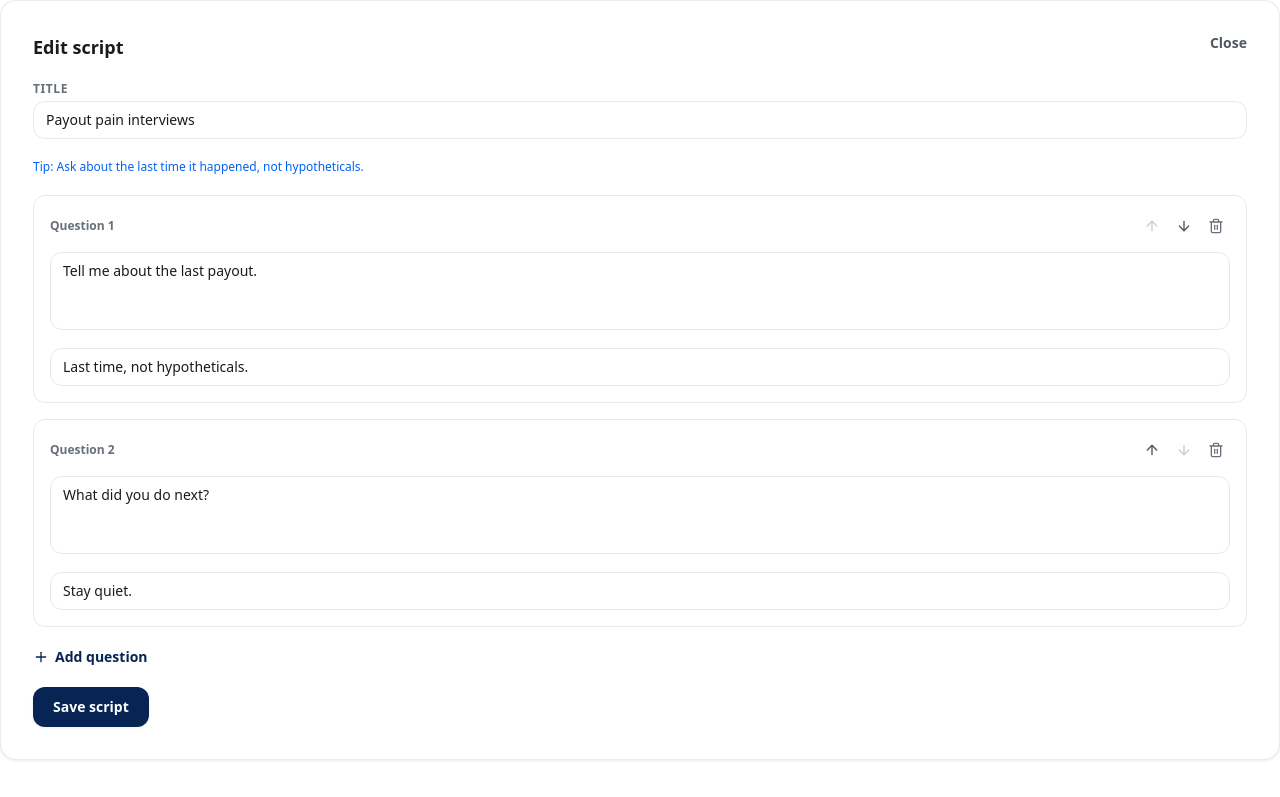
Test: ScriptEditor › reorders, adds and removes, then saves the whole list keeping ids
Click the button named "Move question 1 down". click: (1184, 226)
box: [1170,212,1198,240]
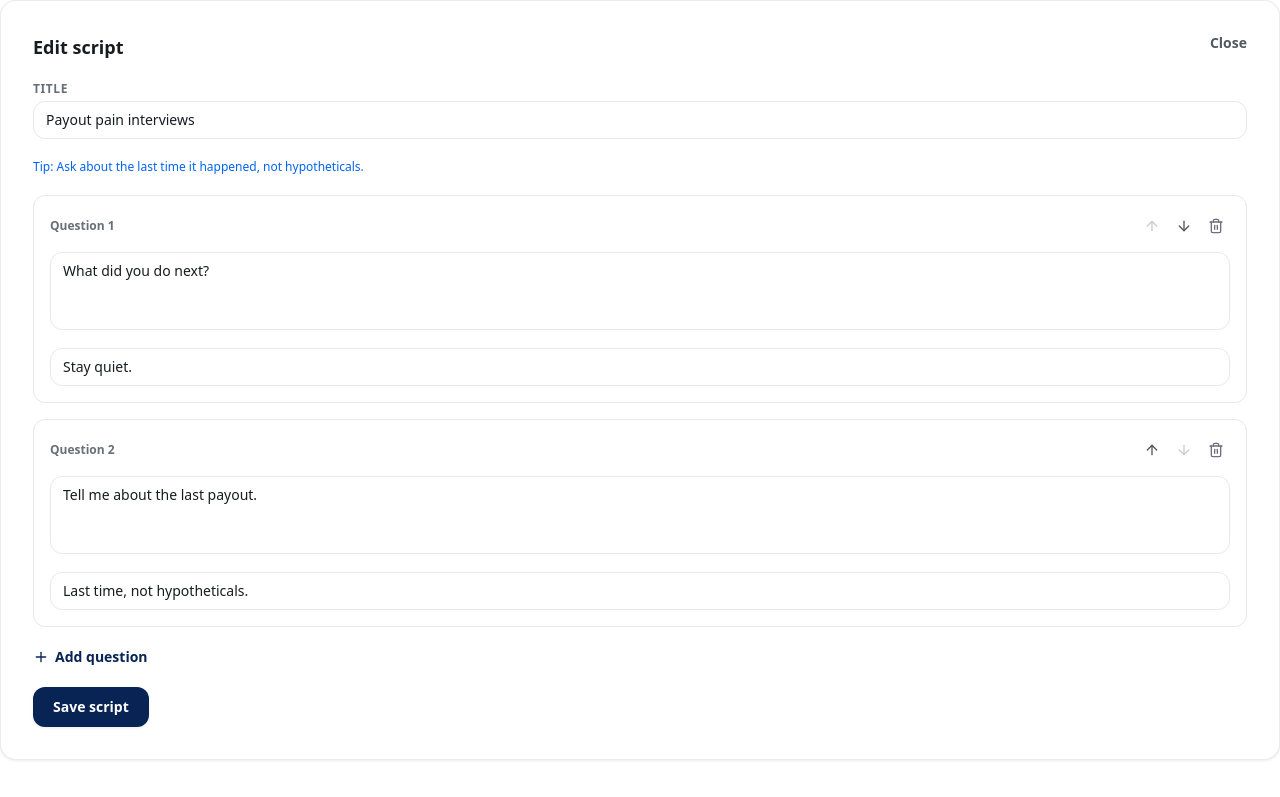
Click the button "Add question". click: (90, 657)
box: [33,647,148,667]
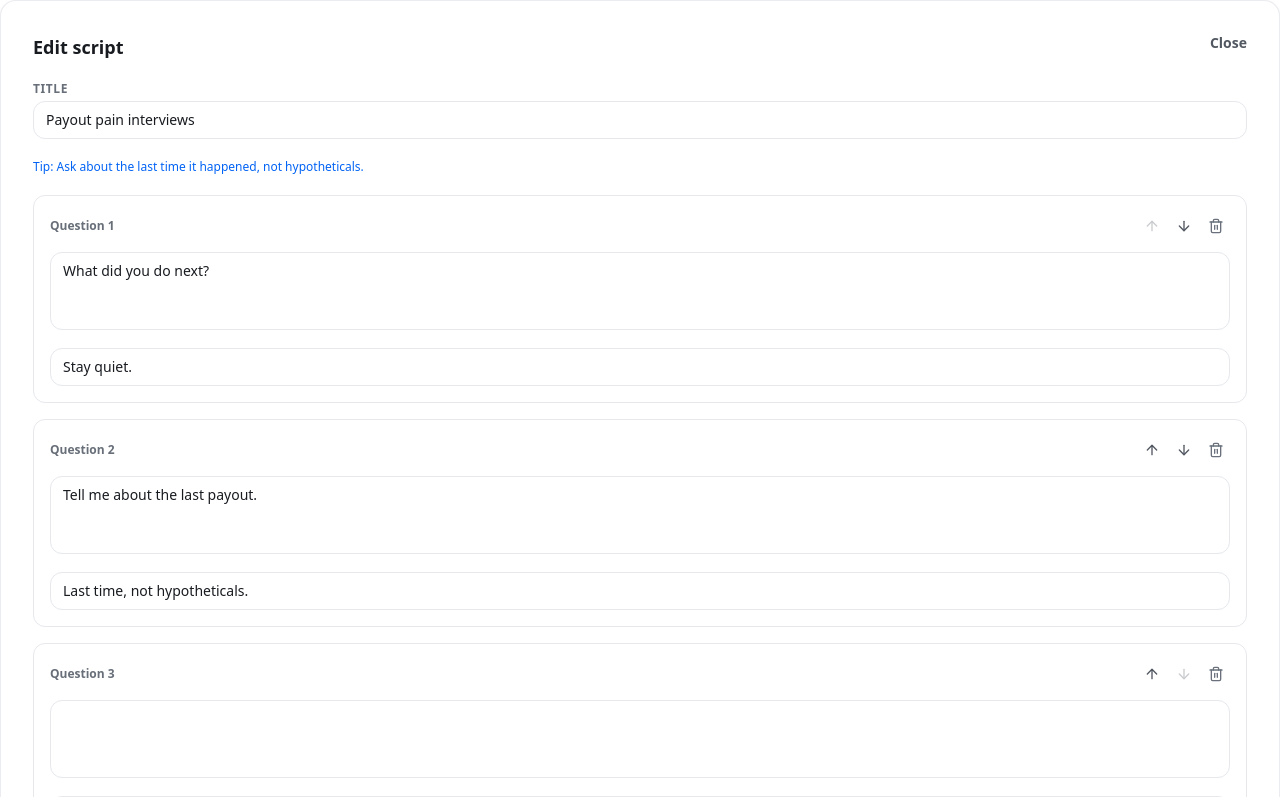
Type "Who else is involved?" into the text box named "Question 3 text". click: (640, 739)
box: [50,700,1230,778]
(page scrolled)
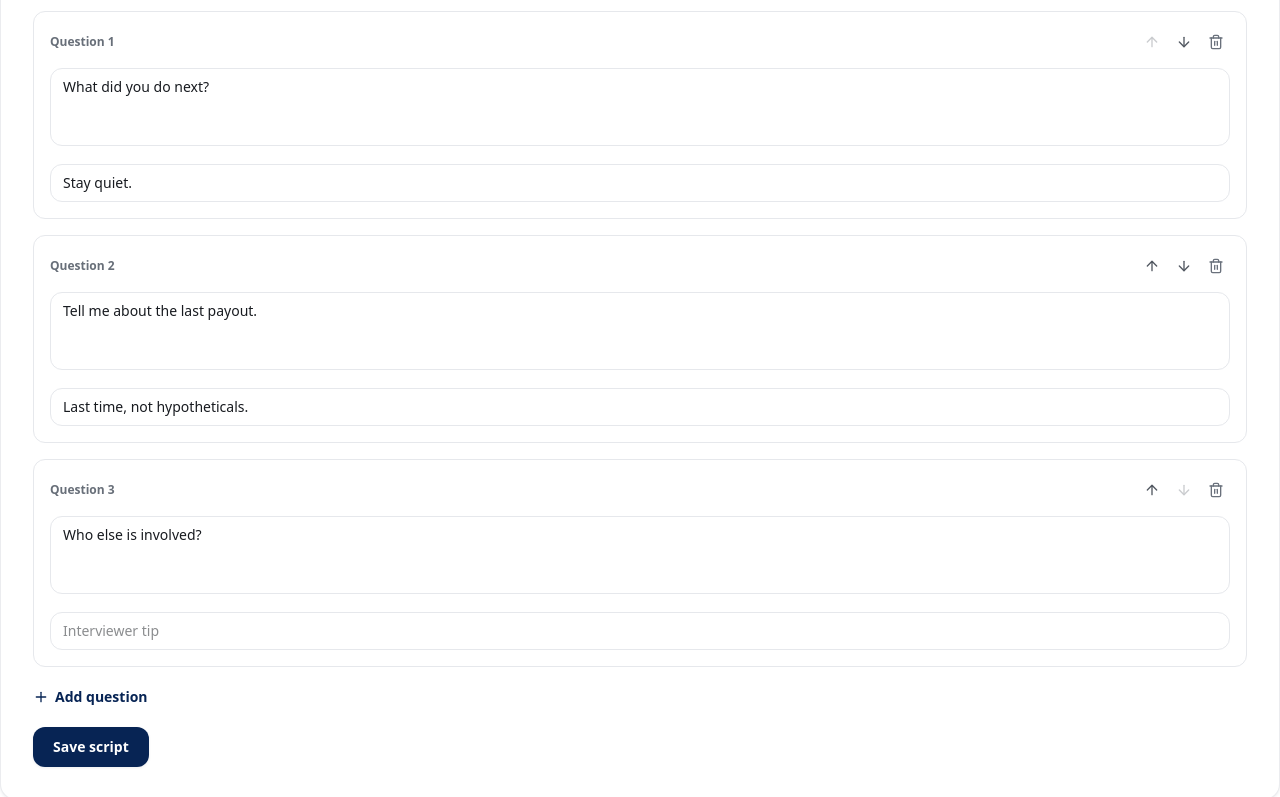
Click the button "Save script". click: (91, 747)
box: [33,727,149,767]
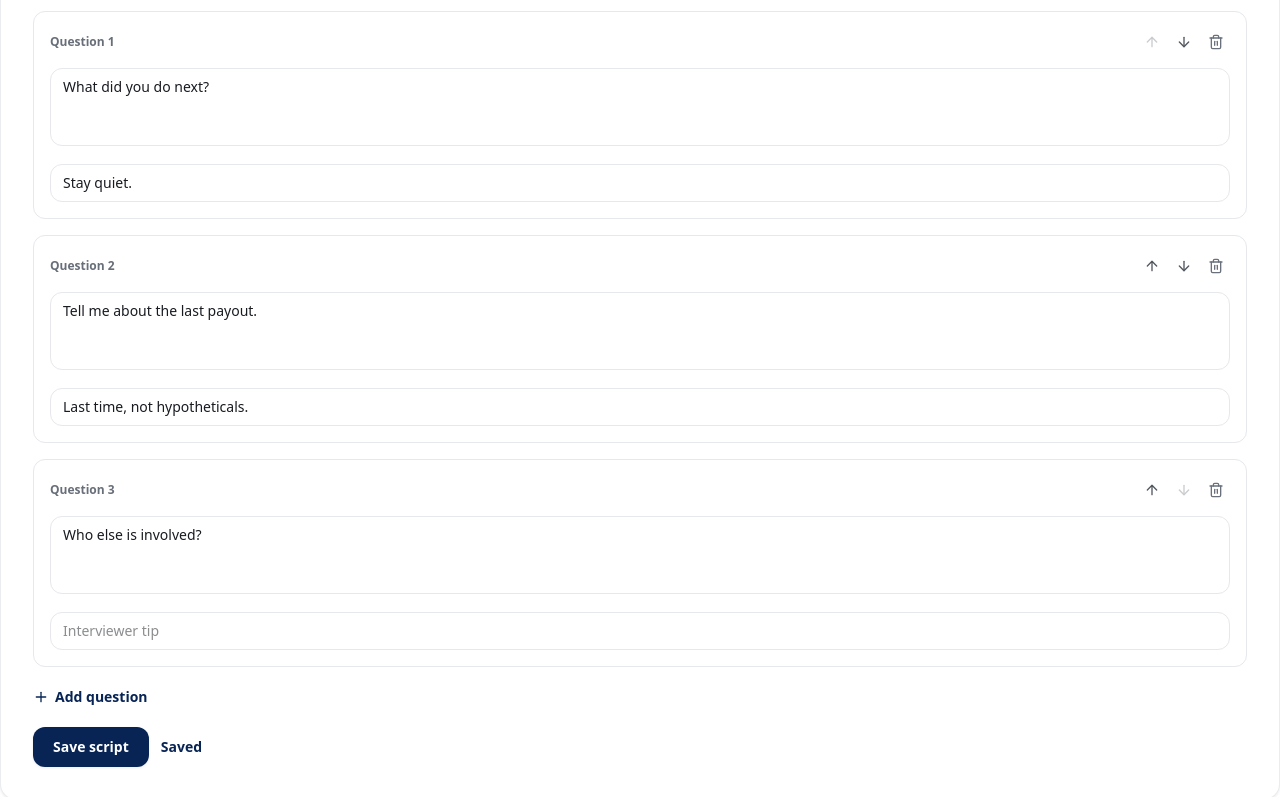
expect the text "Saved" is shown: met, box [161,737,202,757]
